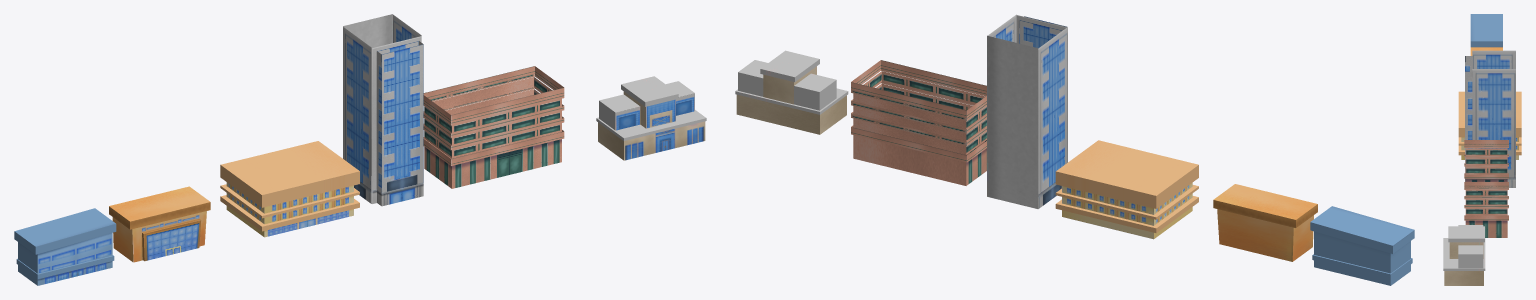
3 views of the same model, side by side, from view 1: azimuth 30°, elevation 25°; view 2: azimuth 150°, elevation 25°; view 3: azimuth 270°, elevation 25° (orthographic). The views are drawn at different scales.
Parts seen in each view (by area): view 1: Cube.005, Cube.011, Cube.004, Cube.001, Cube.002, Cube.006, Cube.010, Cube.009, Cube.007, Cube.008, Cube, Cube.003; view 2: Cube.005, Cube.004, Cube.011, Cube.001, Cube.002, Cube.006, Cube.010, Cube.009, Cube.007, Cube, Cube.008, Cube.003; view 3: Cube.005, Cube.011, Cube.001, Cube.006, Cube.008, Cube.010, Cube.009, Cube.004, Cube.007, Cube.002, Cube, Cube.003.
Part boxes in pixels (x1=…): Cube.005: x1=343, y1=14, x2=423, y2=206; Cube.011: x1=596, y1=76, x2=706, y2=160; Cube.004: x1=220, y1=141, x2=359, y2=213; Cube.001: x1=14, y1=208, x2=116, y2=285; Cube.002: x1=109, y1=186, x2=210, y2=262; Cube.006: x1=423, y1=130, x2=564, y2=188; Cube.010: x1=423, y1=72, x2=564, y2=133; Cube.009: x1=423, y1=87, x2=564, y2=145; Cube.007: x1=423, y1=66, x2=564, y2=121; Cube.008: x1=423, y1=116, x2=564, y2=158; Cube: x1=220, y1=195, x2=359, y2=237; Cube.003: x1=220, y1=184, x2=359, y2=224; Cube.005: x1=987, y1=14, x2=1067, y2=208; Cube.004: x1=1055, y1=140, x2=1198, y2=214; Cube.011: x1=735, y1=50, x2=848, y2=134; Cube.001: x1=1310, y1=206, x2=1414, y2=285; Cube.002: x1=1213, y1=184, x2=1317, y2=261; Cube.006: x1=851, y1=125, x2=986, y2=185; Cube.010: x1=851, y1=67, x2=986, y2=128; Cube.009: x1=851, y1=82, x2=986, y2=141; Cube.007: x1=851, y1=60, x2=986, y2=117; Cube: x1=1055, y1=196, x2=1198, y2=239; Cube.008: x1=851, y1=112, x2=986, y2=154; Cube.003: x1=1055, y1=185, x2=1198, y2=225; Cube.005: x1=1465, y1=50, x2=1515, y2=187; Cube.011: x1=1443, y1=225, x2=1485, y2=285; Cube.001: x1=1470, y1=14, x2=1502, y2=47; Cube.006: x1=1464, y1=173, x2=1508, y2=237; Cube.008: x1=1464, y1=163, x2=1508, y2=215; Cube.010: x1=1464, y1=144, x2=1508, y2=195; Cube.009: x1=1464, y1=154, x2=1508, y2=204; Cube.004: x1=1458, y1=91, x2=1521, y2=141; Cube.007: x1=1464, y1=140, x2=1508, y2=187; Cube.002: x1=1470, y1=47, x2=1502, y2=55; Cube: x1=1458, y1=145, x2=1521, y2=159; Cube.003: x1=1458, y1=137, x2=1521, y2=150.
Size of the model in its own units: 3812 by 876 by 522.
